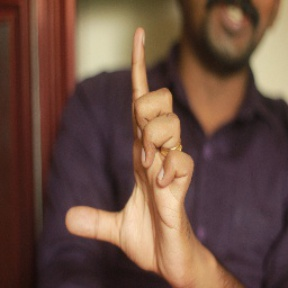L: (64, 27, 193, 270)
